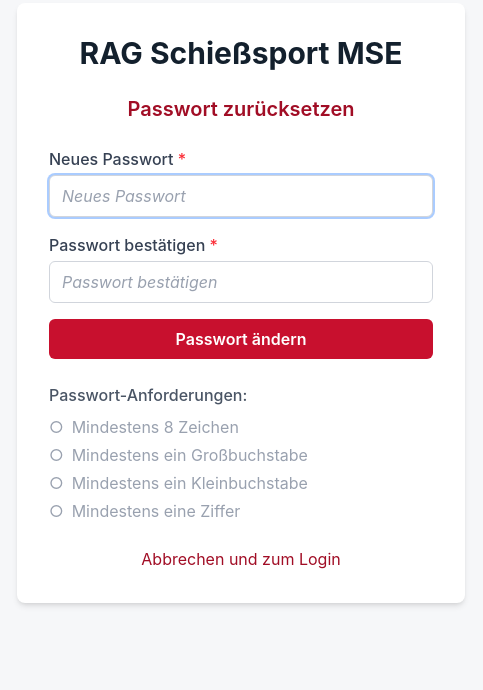
Scenario: ResetPasswordPage › Form Submission › should display API error on failure
The width and height of the screenshot is (483, 690).
Type "Password1" into the password field labelled "Neues Passwort *" at (241, 196), box [49,175,433,217]
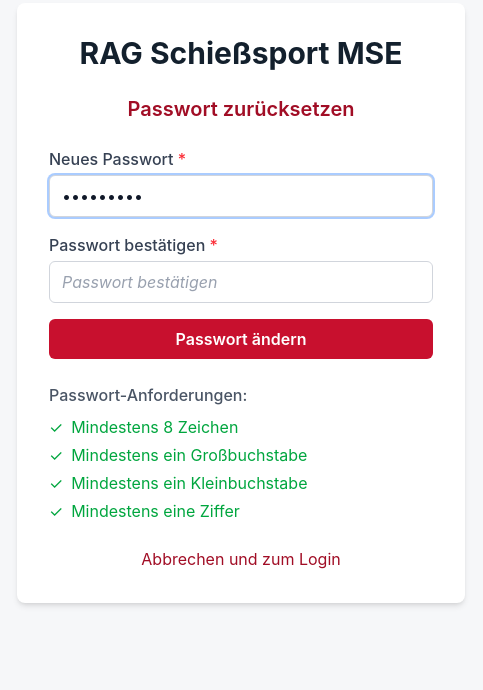
Type "Password1" into the password field labelled "Passwort bestätigen *" at (241, 282), box [49,261,433,303]
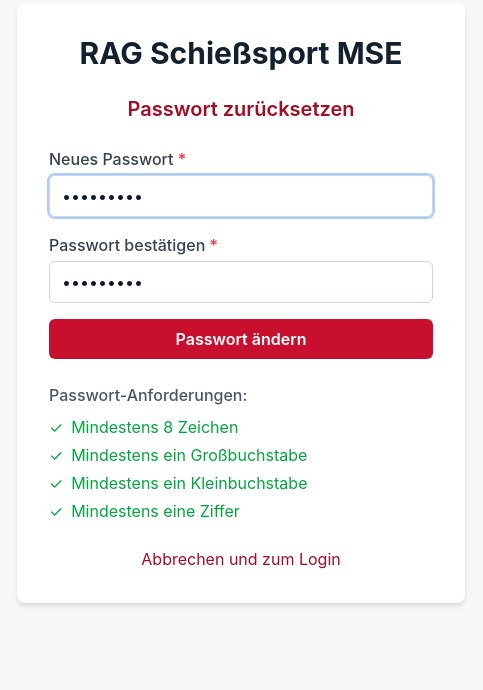
Click the button "Passwort ändern" at (241, 339), box [49,319,433,359]
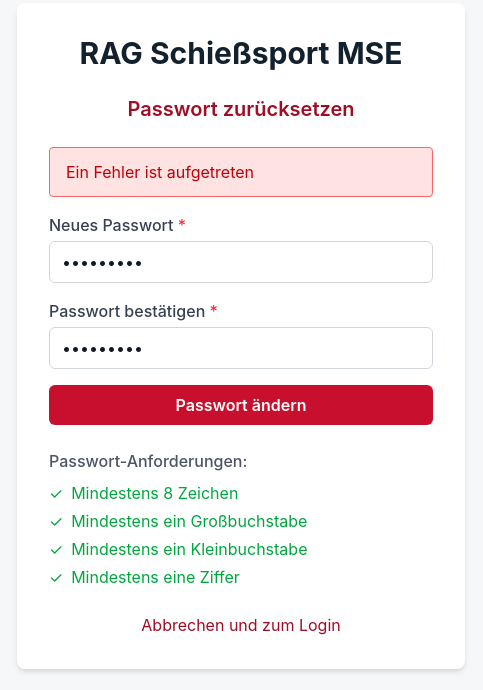
Expected: the text "Ein Fehler ist aufgetreten" is shown, [49,147,433,197]
